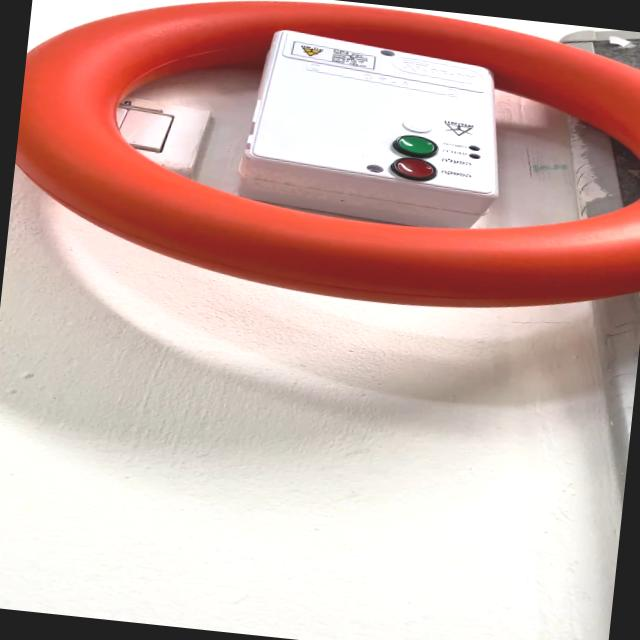note: (6, 0, 640, 331)
